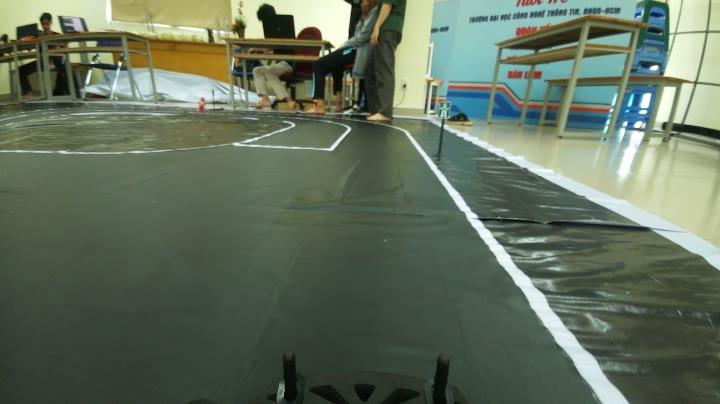highway_entry: (433, 100, 454, 120)
